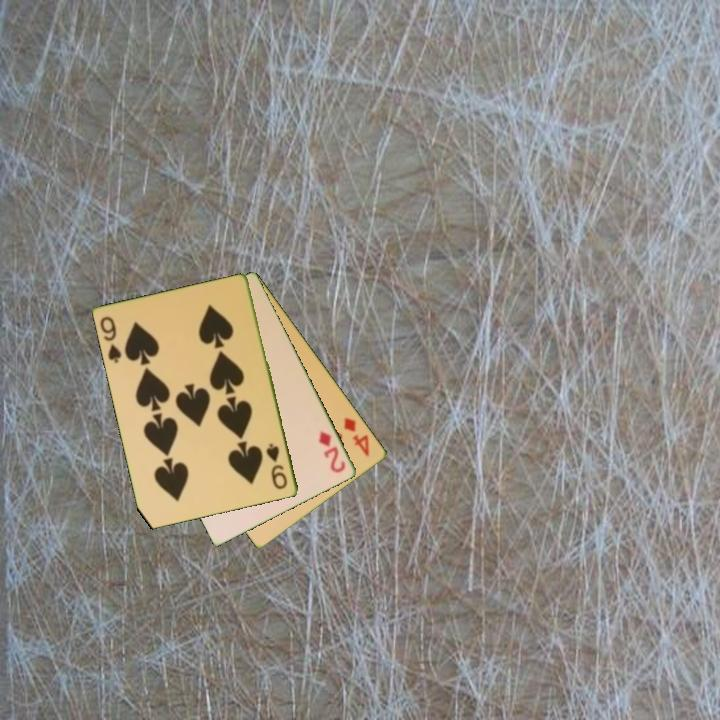2d: (315, 427, 349, 476)
4d: (340, 414, 373, 459)
9s: (97, 313, 125, 366), (263, 440, 291, 492)
